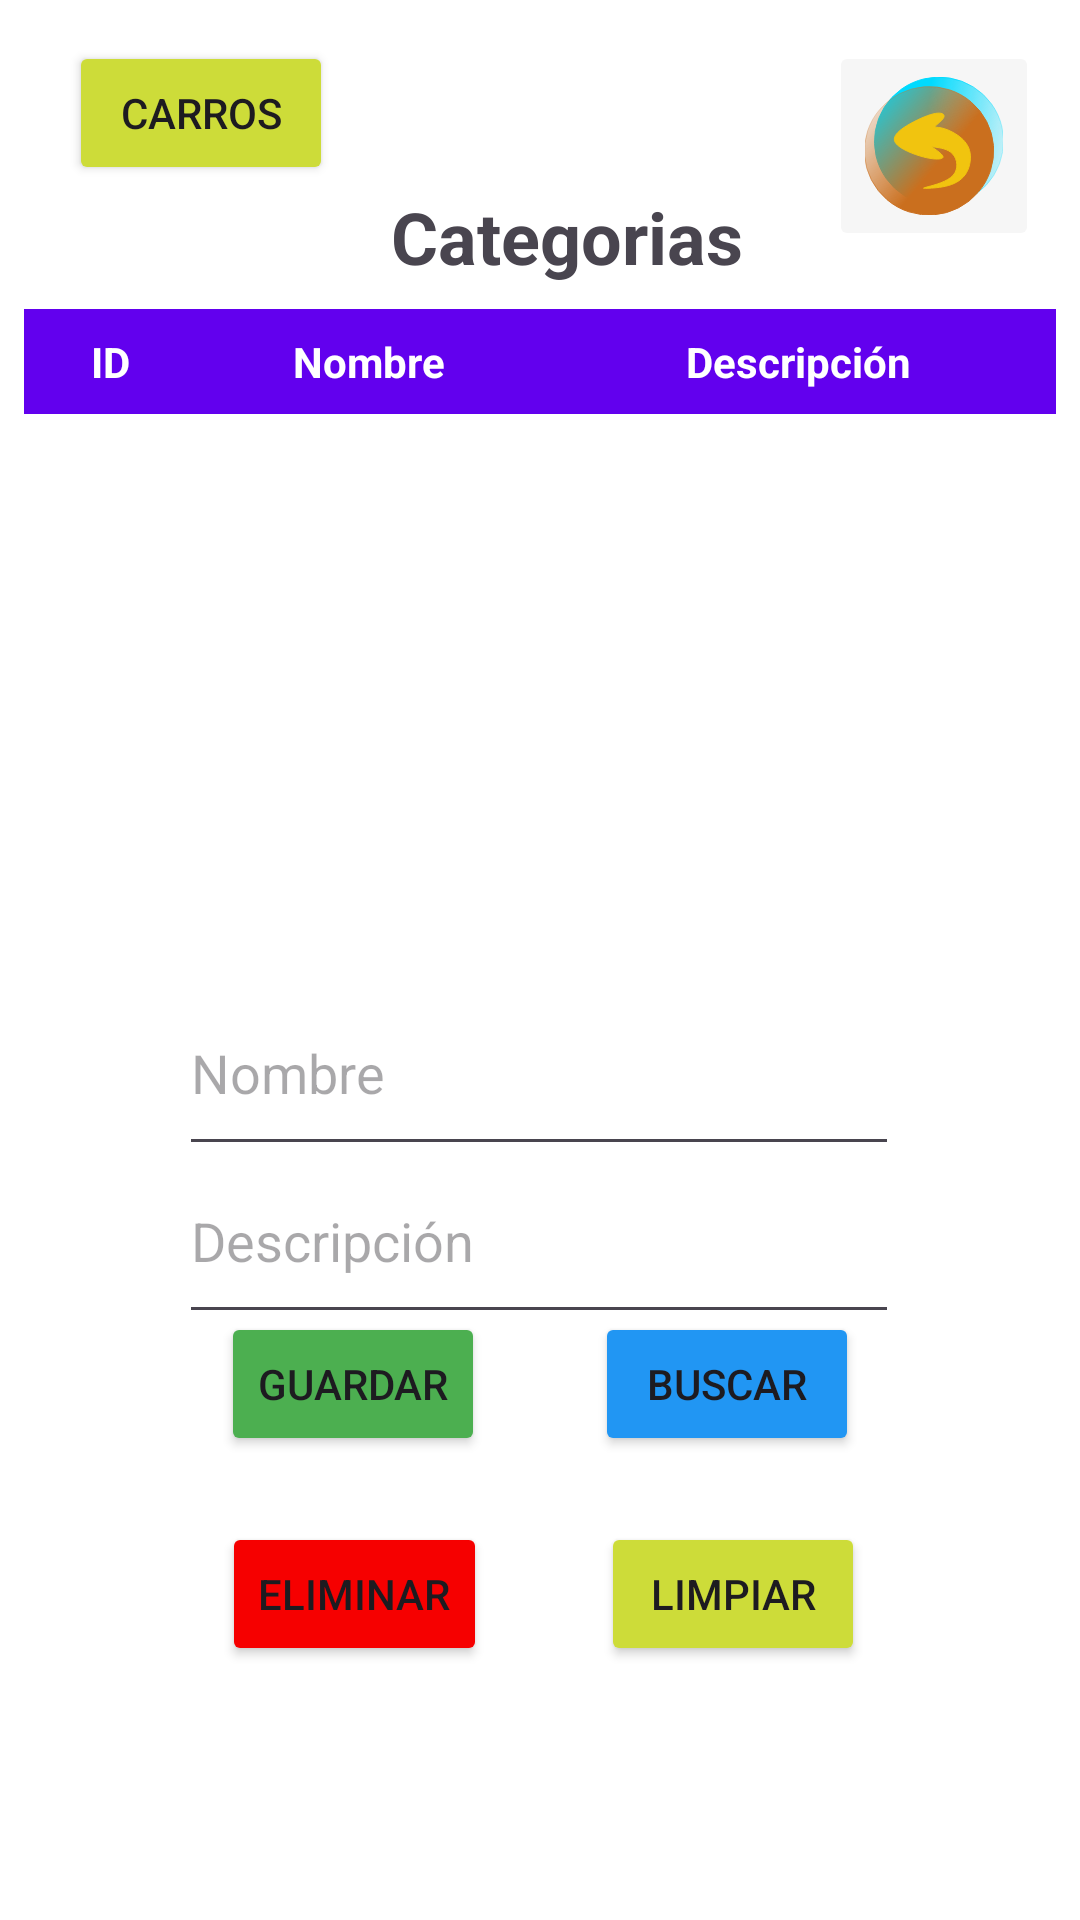

Icon bounding boxes for this 1080px x 1920px phone screenshot, format detection(x1, y1, x2, y2):
bakcbutton: detection(865, 77, 1003, 215)
